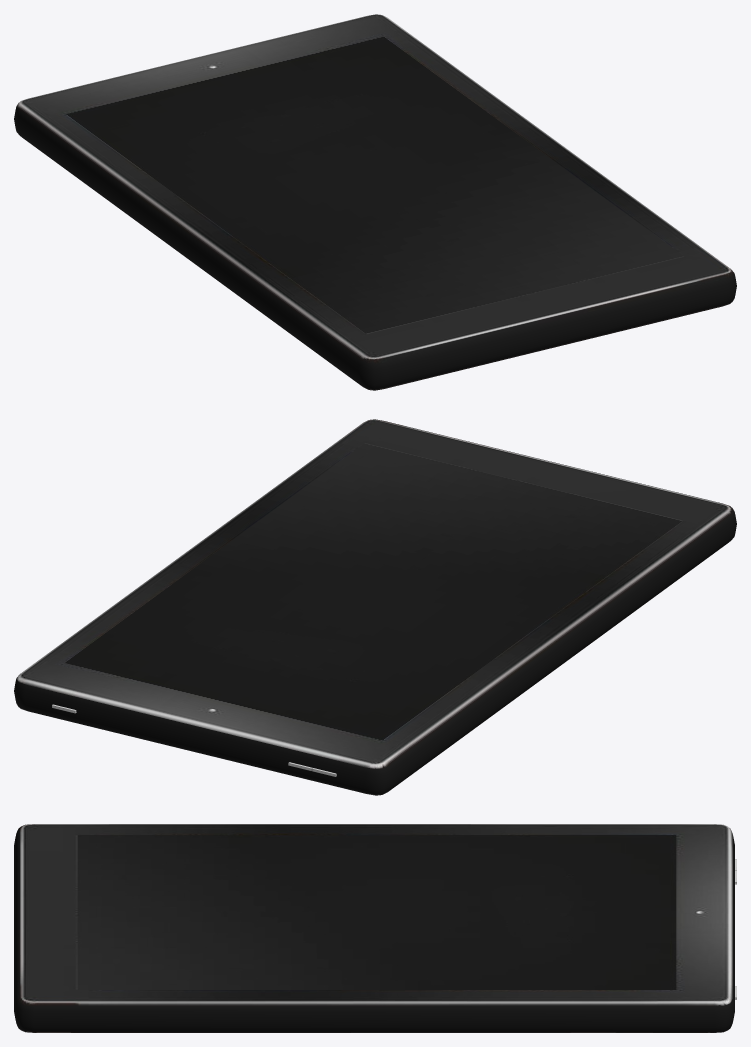
File: aws_Tablet_01_visual.DAE
The picture shows the model from 3 angles, top to bottom: view 1: azimuth 30°, elevation 25°; view 2: azimuth 150°, elevation 25°; view 3: azimuth 270°, elevation 25°; orthographic projection.
Visible parts, largest first — view 1: aws_Tablet_01_visual; view 2: aws_Tablet_01_visual; view 3: aws_Tablet_01_visual.
Part boxes in pixels (x1,y1,x2,y2): aws_Tablet_01_visual: [14, 14, 736, 390]; aws_Tablet_01_visual: [14, 419, 736, 795]; aws_Tablet_01_visual: [14, 824, 736, 1032].
Size of the model in its own units: 11.58 by 19.33 by 0.96.
Materials: 1 (1 with a texture image).
